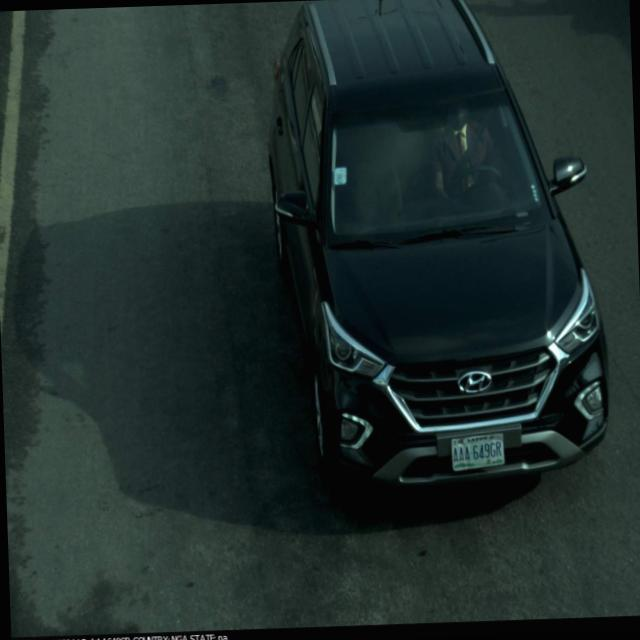windshield: (314, 84, 556, 257)
